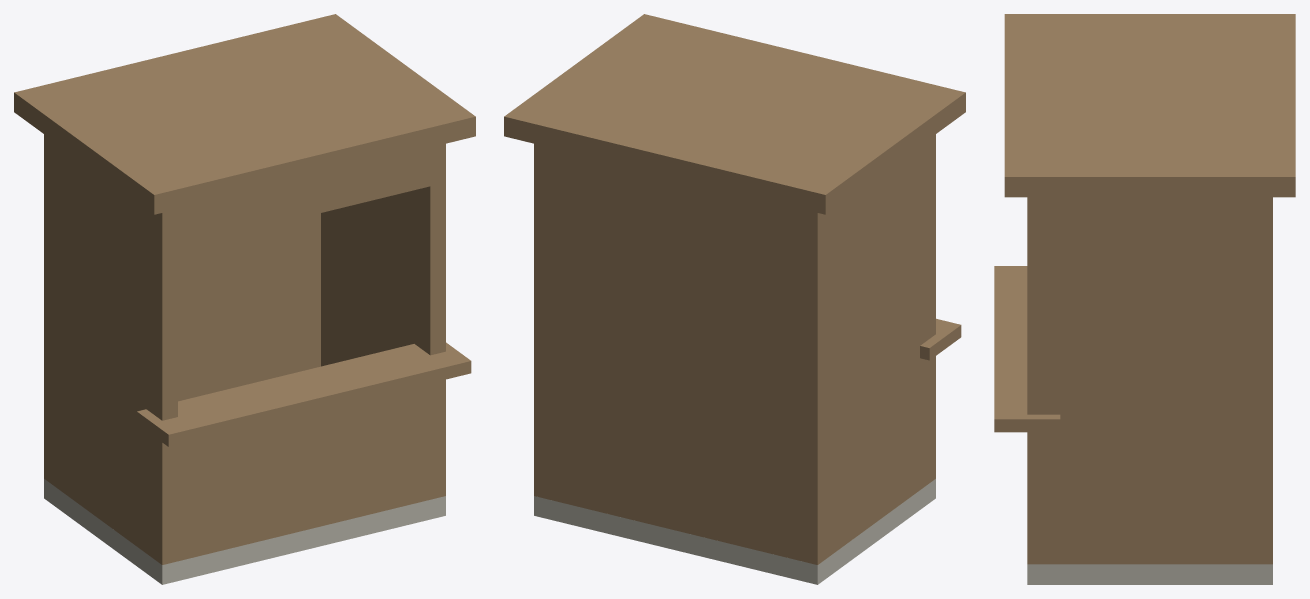
The model's file is zoo-and-safari-park-builder-kiosk-aab642fb__21497.glb.
3 renders of one model, left to right at view 1: azimuth 30°, elevation 25°; view 2: azimuth 150°, elevation 25°; view 3: azimuth 270°, elevation 25°, orthographic. The views are drawn at different scales.
Visible parts, largest first — view 1: kiosk; view 2: kiosk; view 3: kiosk.
Boxes of the visible parts, x1,y1,x2,y2 form: kiosk: (14, 14, 475, 584); kiosk: (504, 14, 965, 584); kiosk: (994, 14, 1295, 584).
Bounding box in the file's own units: 2.04 × 2.44 × 1.59.
